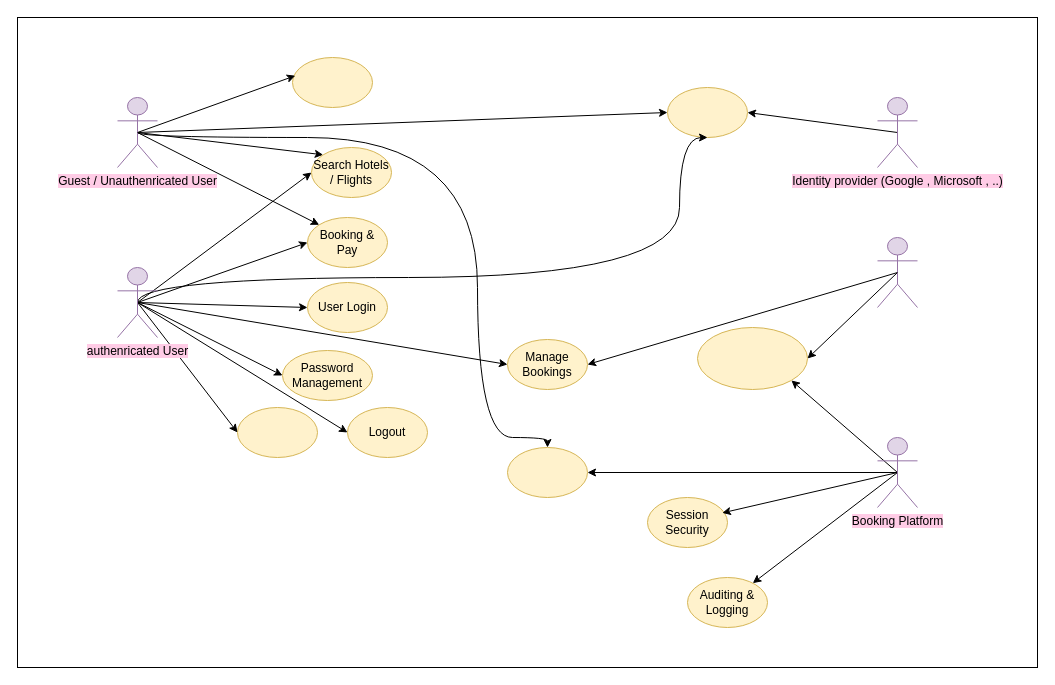
Image size: 1055x685. Some labels were removed from this diagram. The shapes that lost their labels are listed below. From the top down, each one's centre as x and y in pixels, then its label:
At point (332, 82): "User Registration".
At point (707, 112): "Single Sign-On (SSO)".
At point (897, 272): "Admin".
At point (752, 358): "Manage roles & permissions (RBAC)".
At point (277, 432): "Account Management".
At point (547, 472): "Multi-Factor Authentication".
